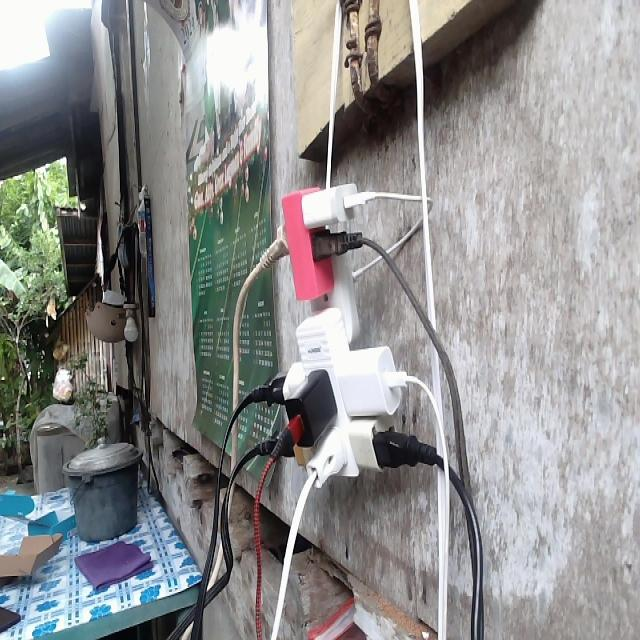-: (245, 180, 441, 488)
